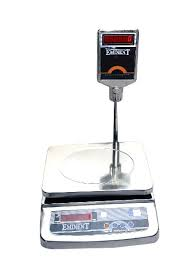Industrial Scale: (40, 28, 160, 249)
